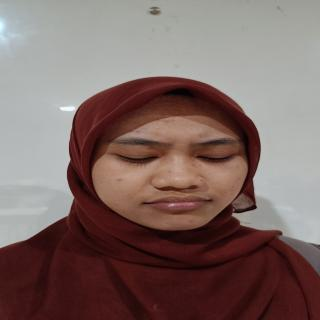Sedih: (78, 95, 256, 235)
